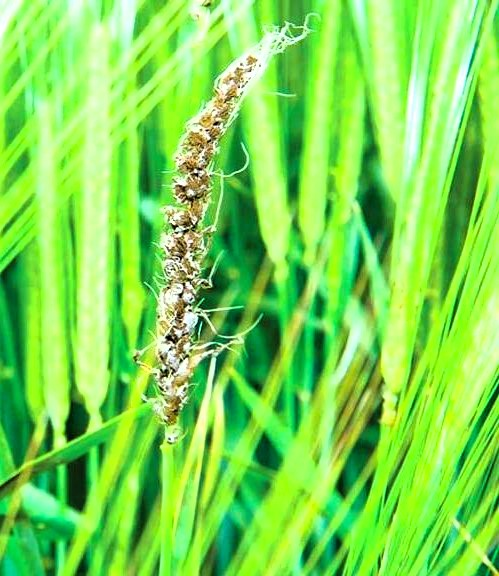Wheat Loose Smut: (156, 96, 226, 426)
